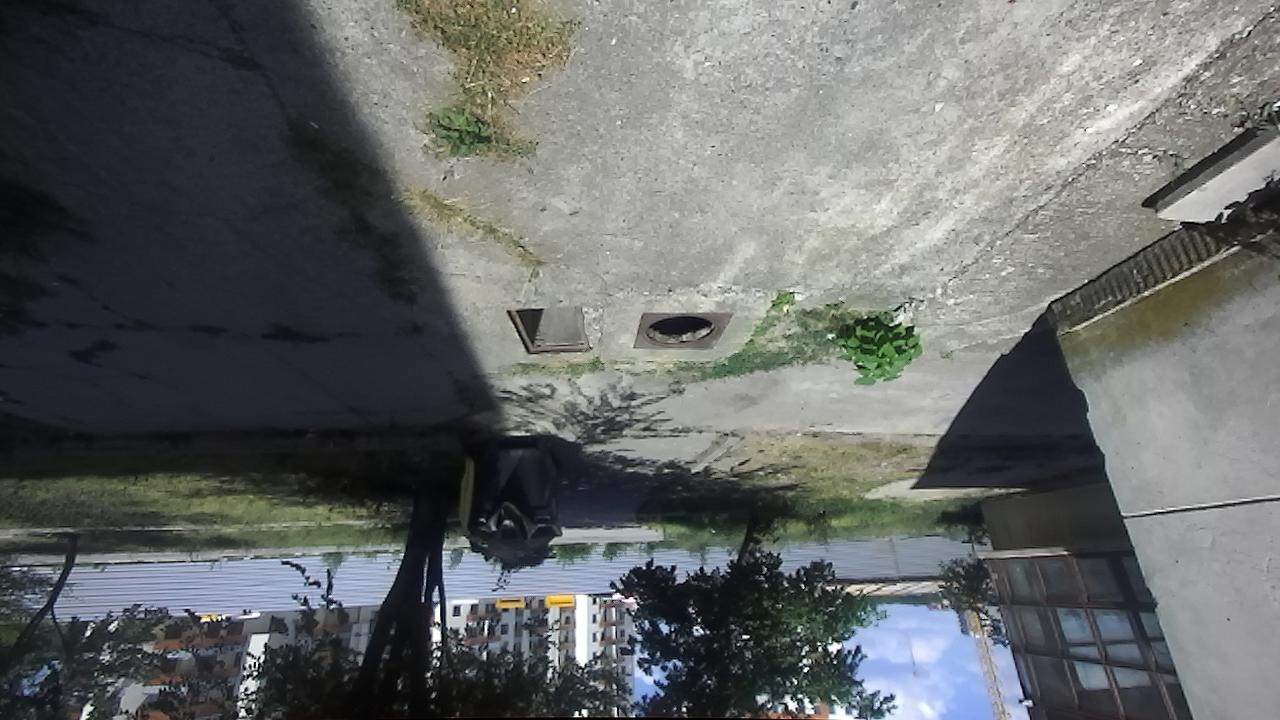drain: (503, 306, 595, 356), (639, 315, 721, 350)
